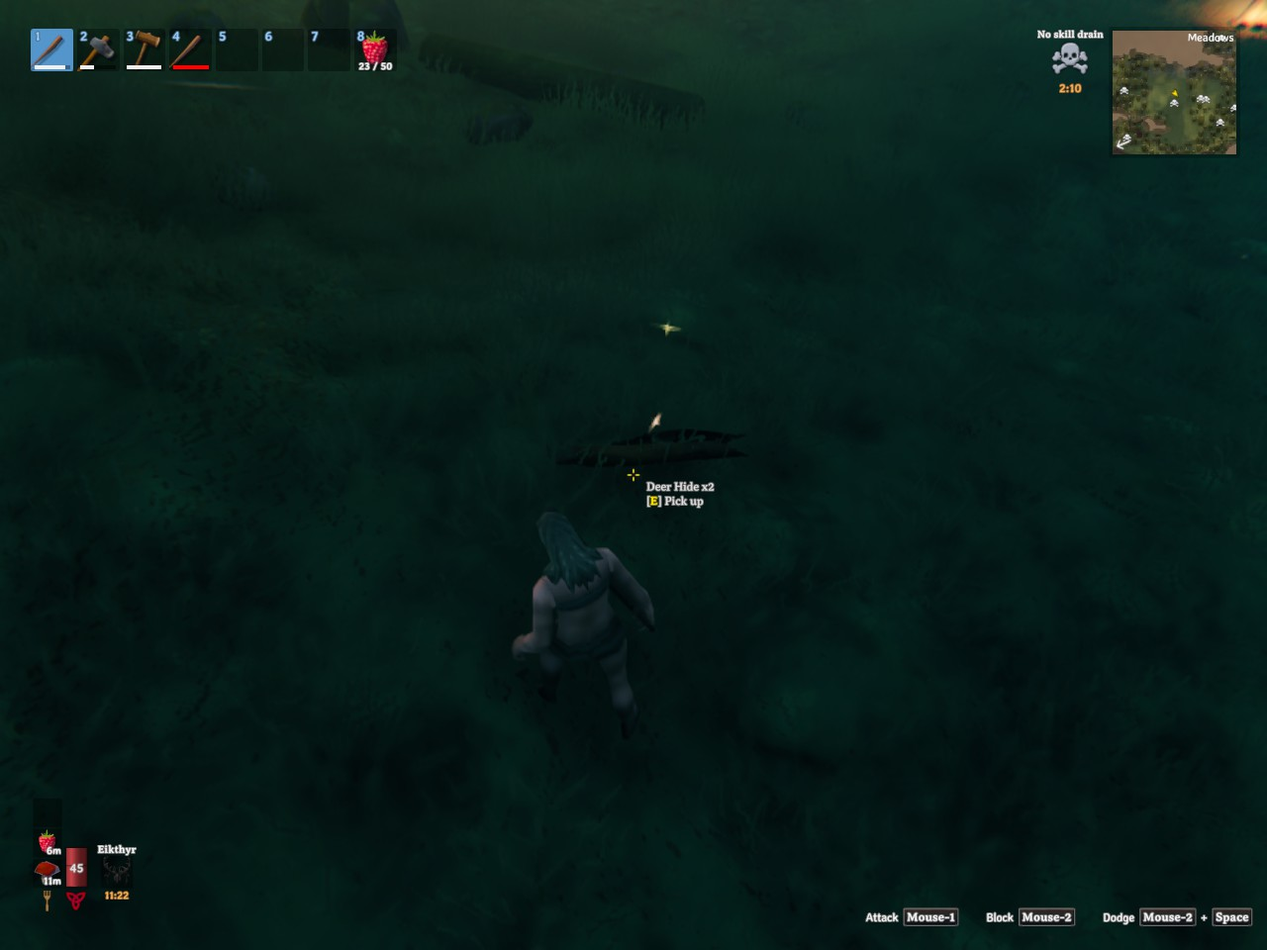Deer Hide: (558, 428, 745, 466)
Food Indicator: (36, 829, 63, 891)
Health Bar: (63, 845, 90, 891)
Hotbar: (25, 21, 398, 78)
Status Indicator: (1029, 25, 1110, 103)
